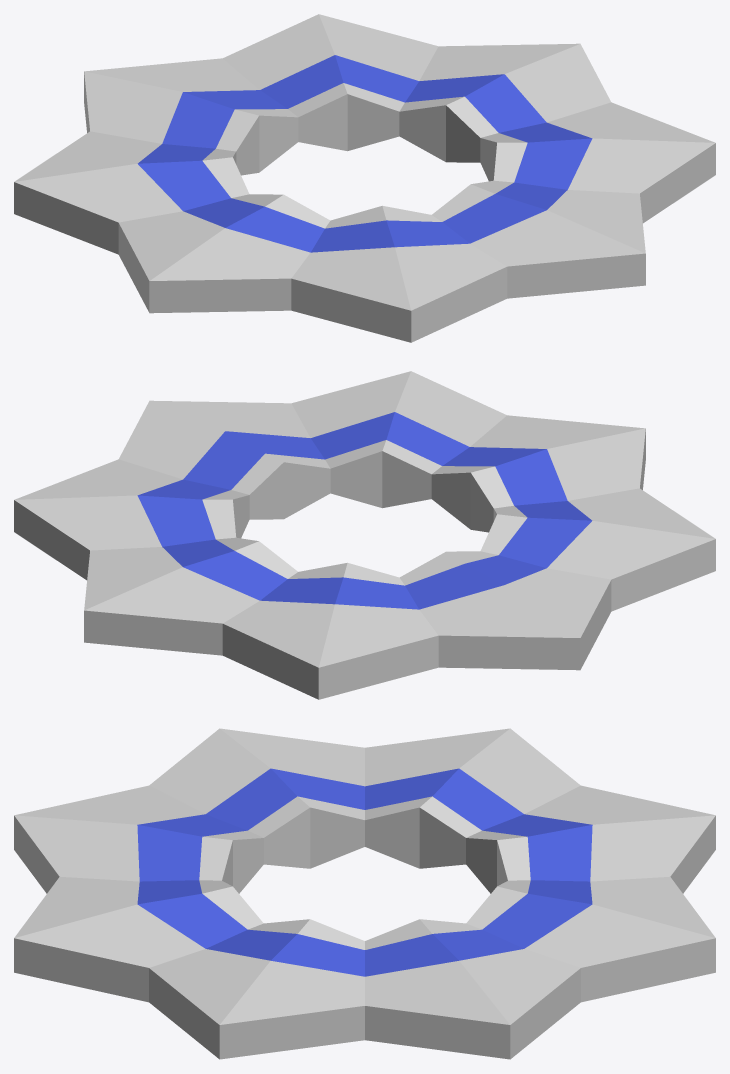
Rendered from gear.fbx.
The picture shows the model from 3 angles, top to bottom: view 1: azimuth 30°, elevation 25°; view 2: azimuth 150°, elevation 25°; view 3: azimuth 270°, elevation 25°; orthographic projection. The views are drawn at different scales.
Visible parts, largest first — view 1: Cylinder; view 2: Cylinder; view 3: Cylinder.
Boxes of the visible parts, left/top/right/bottom form: Cylinder: left=14, top=14, right=715, bottom=342; Cylinder: left=14, top=371, right=715, bottom=699; Cylinder: left=14, top=728, right=715, bottom=1059.
Bounding box in the file's own units: 398 × 38.41 × 398.
